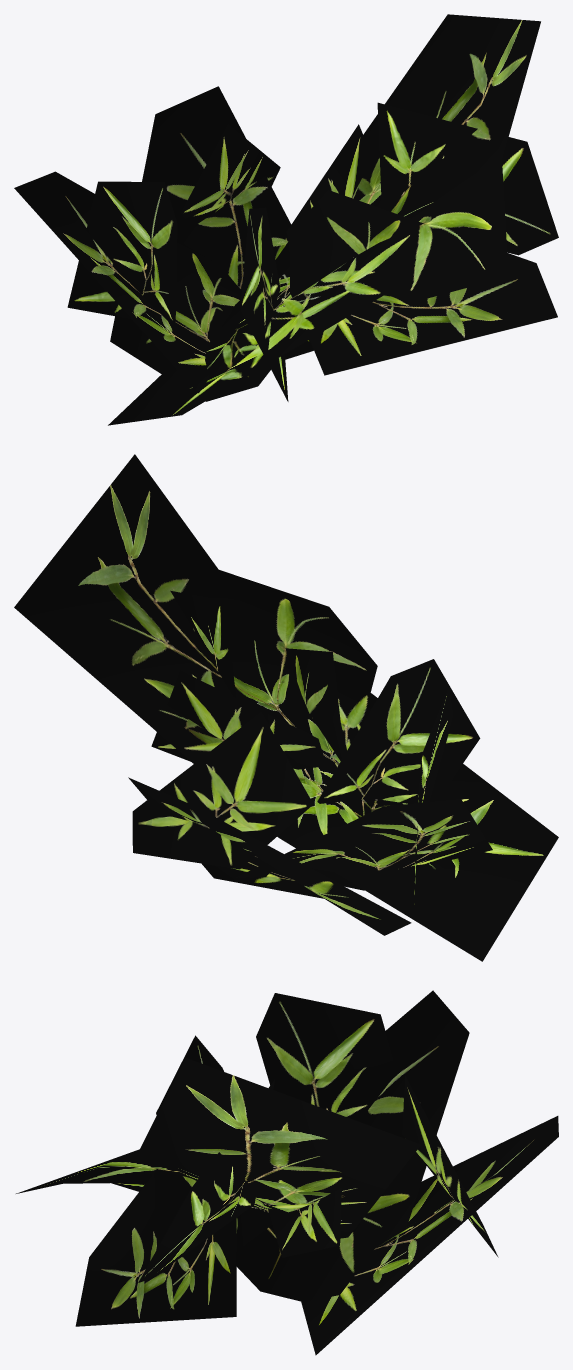
File: m_grass_30_1.fbx
3 views of the same model, one above another, from view 1: azimuth 30°, elevation 25°; view 2: azimuth 150°, elevation 25°; view 3: azimuth 270°, elevation 25° (orthographic). The views are drawn at different scales.
Parts seen in each view (by area): view 1: mesh_grass_30_1_LOD0; view 2: mesh_grass_30_1_LOD0; view 3: mesh_grass_30_1_LOD0.
Boxes of the visible parts, x1=… form: mesh_grass_30_1_LOD0: x1=14, y1=14, x2=558, y2=425; mesh_grass_30_1_LOD0: x1=14, y1=454, x2=558, y2=961; mesh_grass_30_1_LOD0: x1=16, y1=990, x2=558, y2=1355.
Size of the model in its own units: 1.06 by 0.8241 by 1.03.
